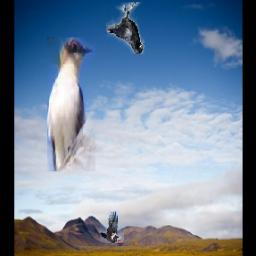Crow: (105, 3, 144, 55)
Cuckoo: (47, 37, 95, 171)
Woodpecker: (99, 212, 123, 244)
